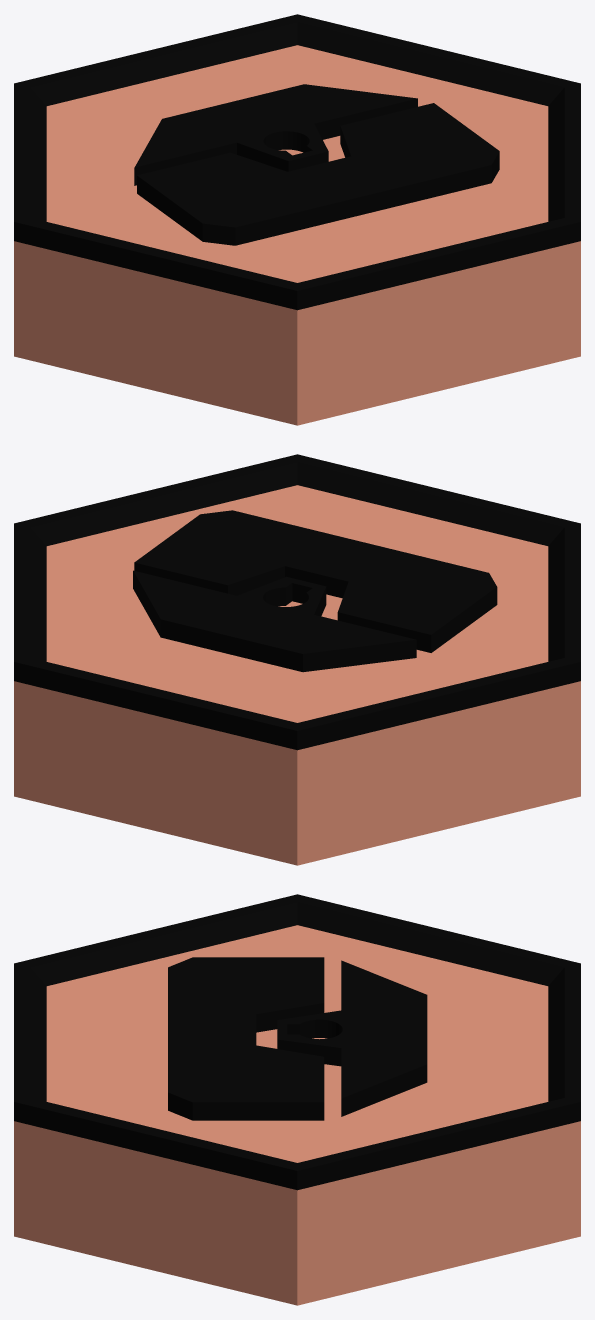
The model's file is treasureroom.glb.
3 renders of one model, top to bottom at view 1: azimuth 30°, elevation 25°; view 2: azimuth 150°, elevation 25°; view 3: azimuth 270°, elevation 25°, orthographic.
Parts seen in each view (by area): view 1: Cylinder.003, Cube, Cube.001; view 2: Cylinder.003, Cube, Cube.001; view 3: Cylinder.003, Cube, Cube.001.
Boxes of the visible parts, <box> form: Cylinder.003: <box>14,14,580,425</box>; Cube: <box>137,103,499,245</box>; Cube.001: <box>134,84,417,185</box>; Cylinder.003: <box>14,454,580,865</box>; Cube: <box>134,510,497,652</box>; Cube.001: <box>133,570,416,672</box>; Cylinder.003: <box>14,894,580,1305</box>; Cube: <box>168,957,324,1120</box>; Cube.001: <box>277,960,427,1116</box>.
Bounding box in the file's own units: 2 × 0.4653 × 1.73.
